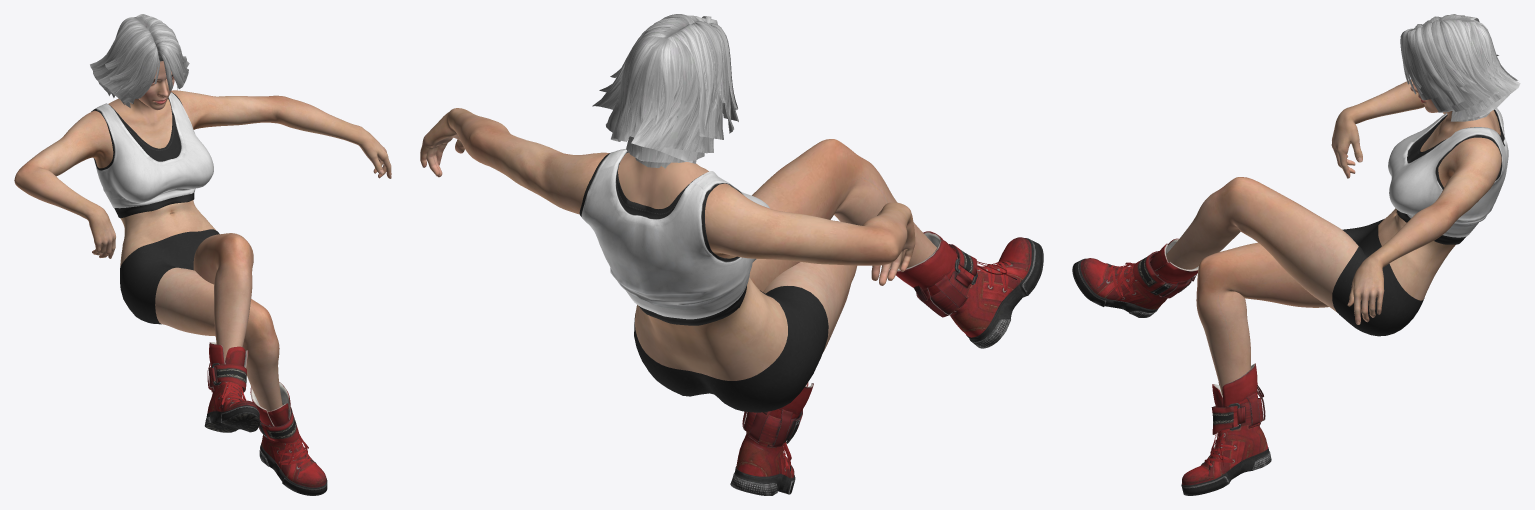
Rendered from girl.glb.
3 views of the same model, side by side, from view 1: azimuth 30°, elevation 25°; view 2: azimuth 150°, elevation 25°; view 3: azimuth 270°, elevation 25° (orthographic). The views are drawn at different scales.
Visible parts, largest first — view 1: Object_9, Object_12, Object_26, Object_4, Object_29, Object_24, Object_27, Object_30, Object_25, Object_28, Object_5; view 2: Object_4, Object_26, Object_12, Object_9, Object_29, Object_27, Object_24, Object_23, Object_30, Object_25; view 3: Object_9, Object_12, Object_29, Object_26, Object_24, Object_4, Object_27, Object_30, Object_23, Object_25, Object_28.
Boxes of the visible parts, bbox=[...] form: Object_9: bbox=[157, 233, 282, 416]; Object_12: bbox=[14, 94, 391, 258]; Object_26: bbox=[91, 92, 213, 218]; Object_4: bbox=[68, 90, 215, 326]; Object_29: bbox=[207, 342, 326, 487]; Object_24: bbox=[90, 14, 189, 103]; Object_27: bbox=[120, 229, 219, 324]; Object_30: bbox=[204, 363, 327, 495]; Object_25: bbox=[105, 25, 186, 81]; Object_28: bbox=[218, 381, 311, 467]; Object_5: bbox=[138, 61, 174, 110]; Object_4: bbox=[552, 152, 828, 380]; Object_26: bbox=[579, 149, 769, 325]; Object_12: bbox=[420, 108, 915, 285]; Object_9: bbox=[749, 139, 936, 351]; Object_29: bbox=[736, 231, 1031, 478]; Object_27: bbox=[634, 286, 828, 412]; Object_24: bbox=[592, 15, 738, 153]; Object_23: bbox=[611, 36, 704, 168]; Object_30: bbox=[730, 238, 1043, 495]; Object_25: bbox=[610, 14, 737, 109]; Object_9: bbox=[1166, 177, 1354, 395]; Object_12: bbox=[1331, 79, 1494, 324]; Object_29: bbox=[1080, 238, 1267, 485]; Object_26: bbox=[1388, 108, 1508, 244]; Object_24: bbox=[1400, 14, 1505, 115]; Object_4: bbox=[1324, 110, 1501, 312]; Object_27: bbox=[1332, 218, 1424, 336]; Object_30: bbox=[1072, 253, 1271, 495]; Object_23: bbox=[1438, 20, 1520, 121]; Object_25: bbox=[1415, 16, 1466, 93]; Object_28: bbox=[1107, 262, 1238, 465].
Size of what is drawn, in the model's own units: 0.4725 by 0.5284 by 0.4813.
25 materials, 25 textured.
